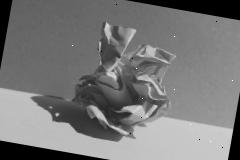paper: (68, 18, 184, 142), (92, 21, 136, 76)
